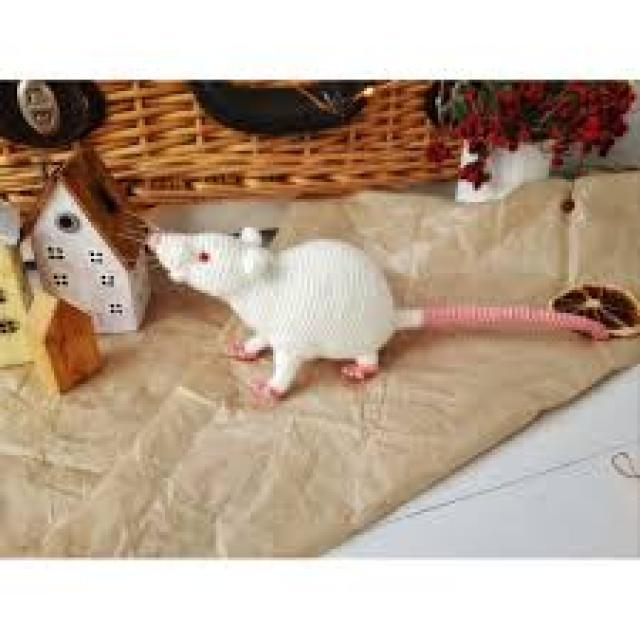Rat: (111, 176, 518, 442)
